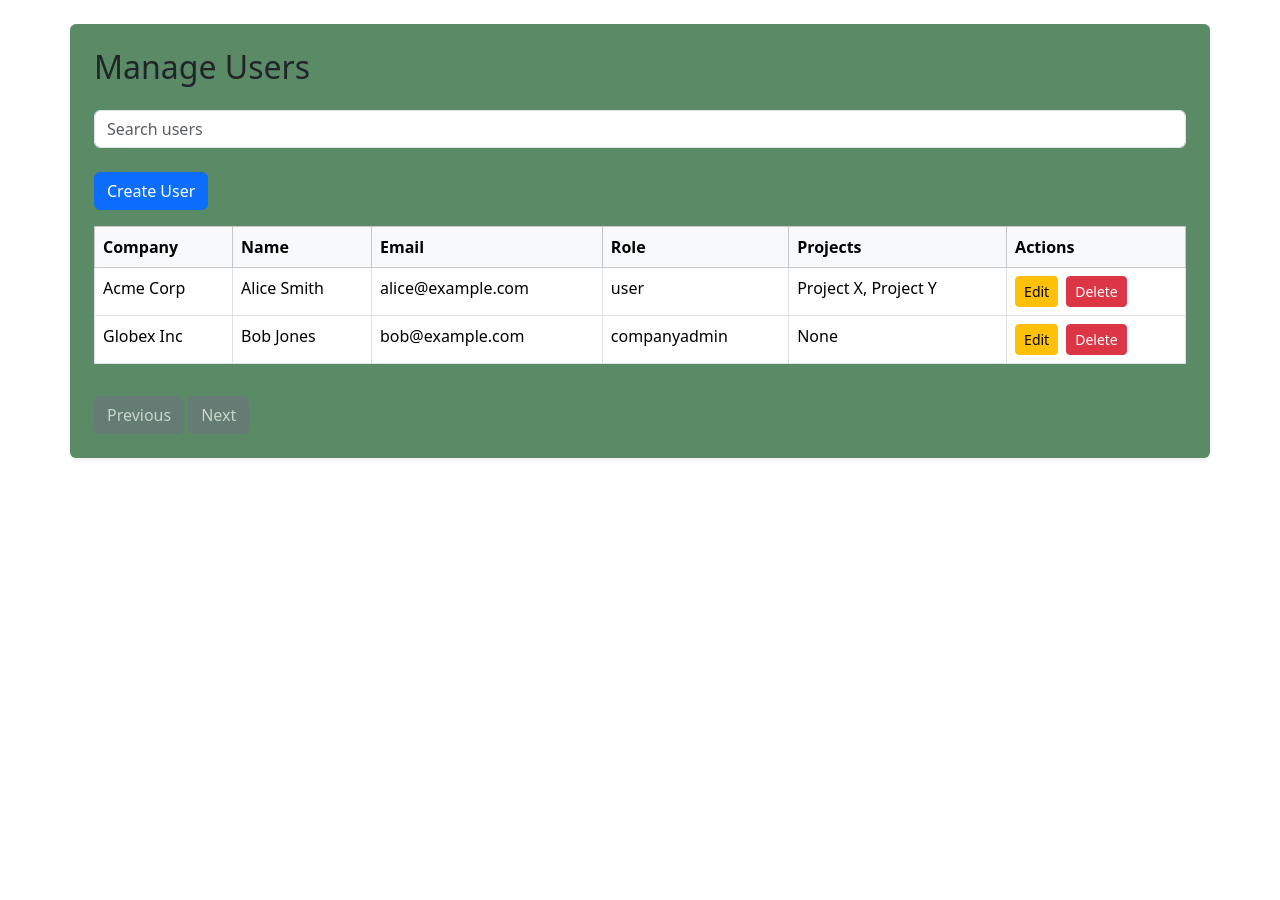
it: ManageUsers Page › opens the form prefilled for editing
Expected: the text "Alice Smith" is shown, [233,268,372,316]
Click the button "Edit" in the row of "Acme Corp" at point(1037, 292), box [1015,276,1058,307]
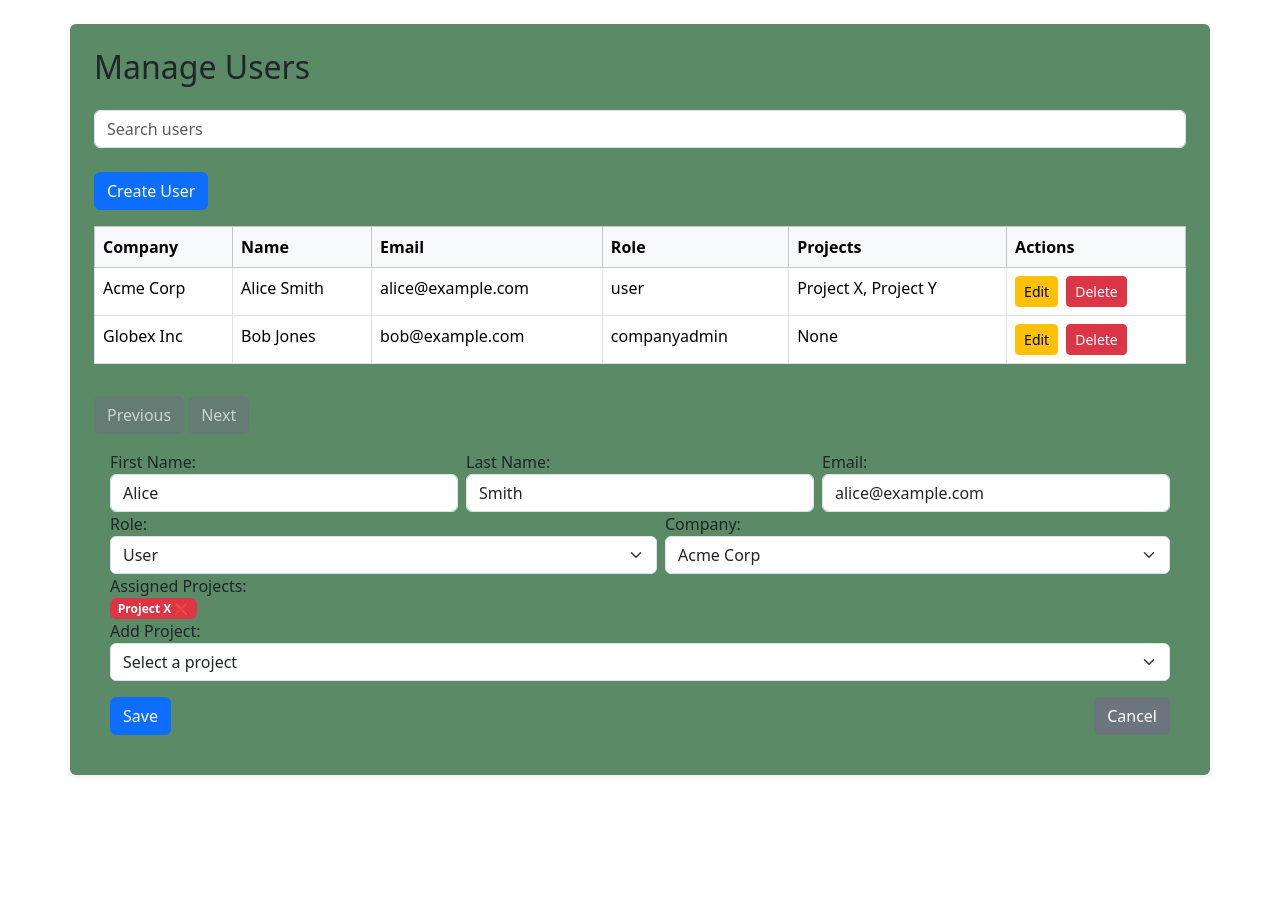
Result: the field showing "Alice" is shown at [110,474,458,512]
Result: the field labelled "Last Name:" holds "Smith" at [466,474,814,512]
